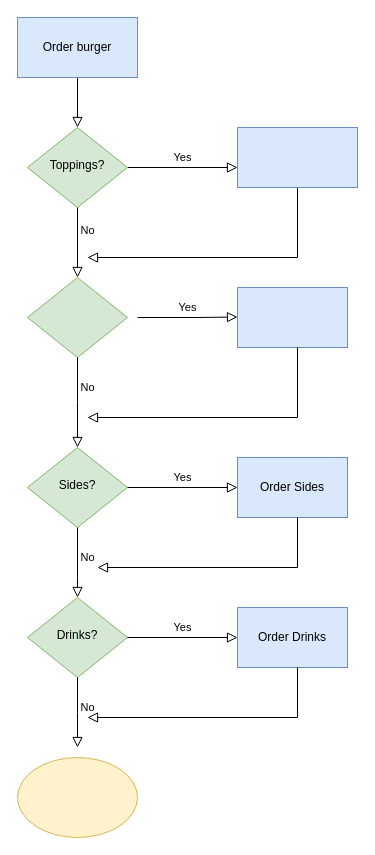
The diagram is 375 pixels wide and 855 high, and some of its shapes have lost their labels. Each missing label, with the centre of its shape:
End!: (x=77, y=797)
Order Toppings: (x=297, y=157)
Sauce?: (x=77, y=317)
